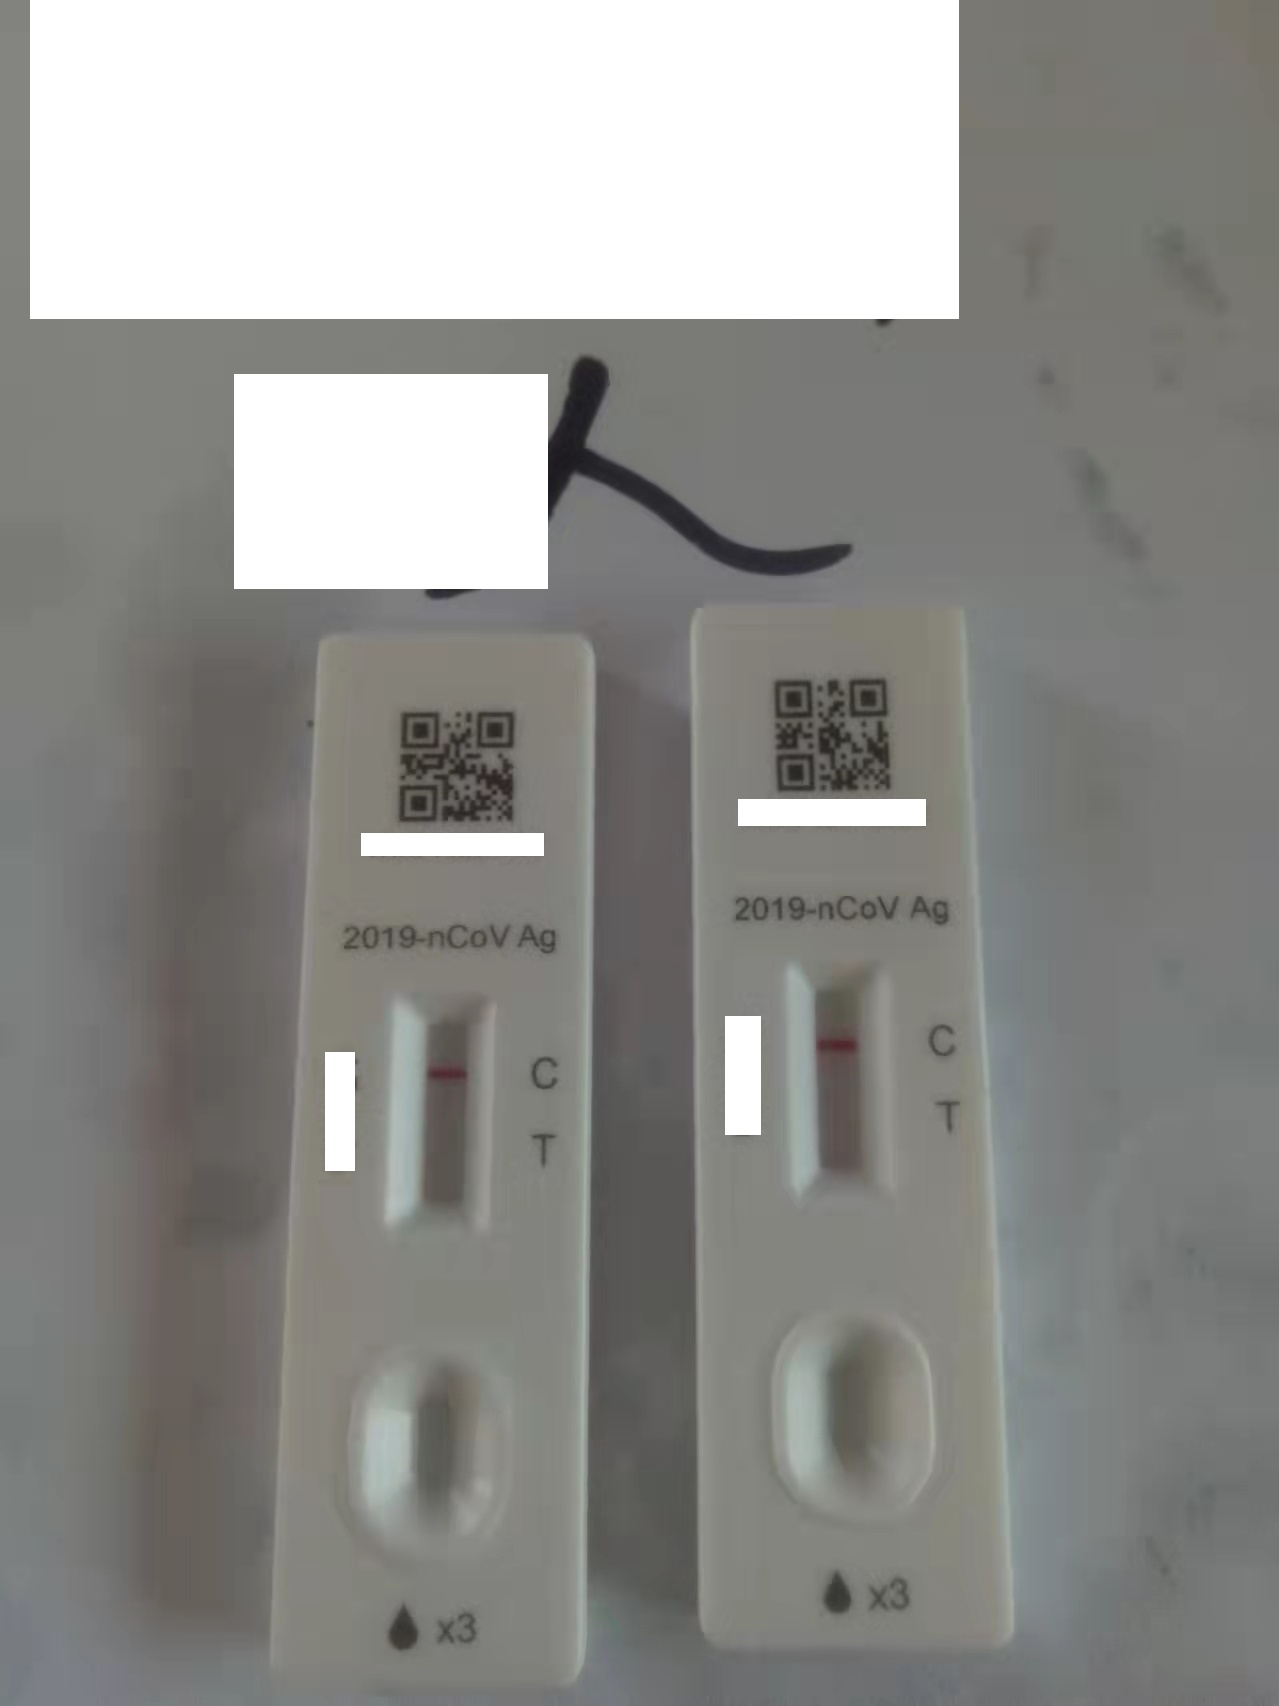negative: (394, 999, 490, 1243), (793, 962, 883, 1205)
